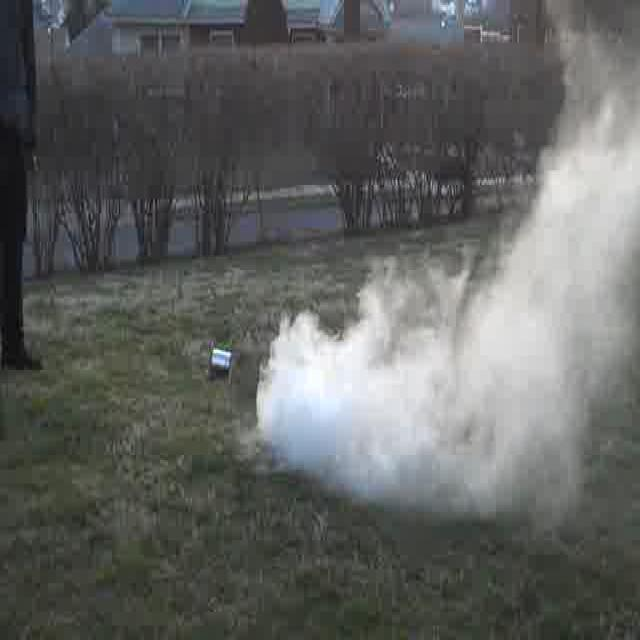Smoke: (267, 300, 602, 485)
